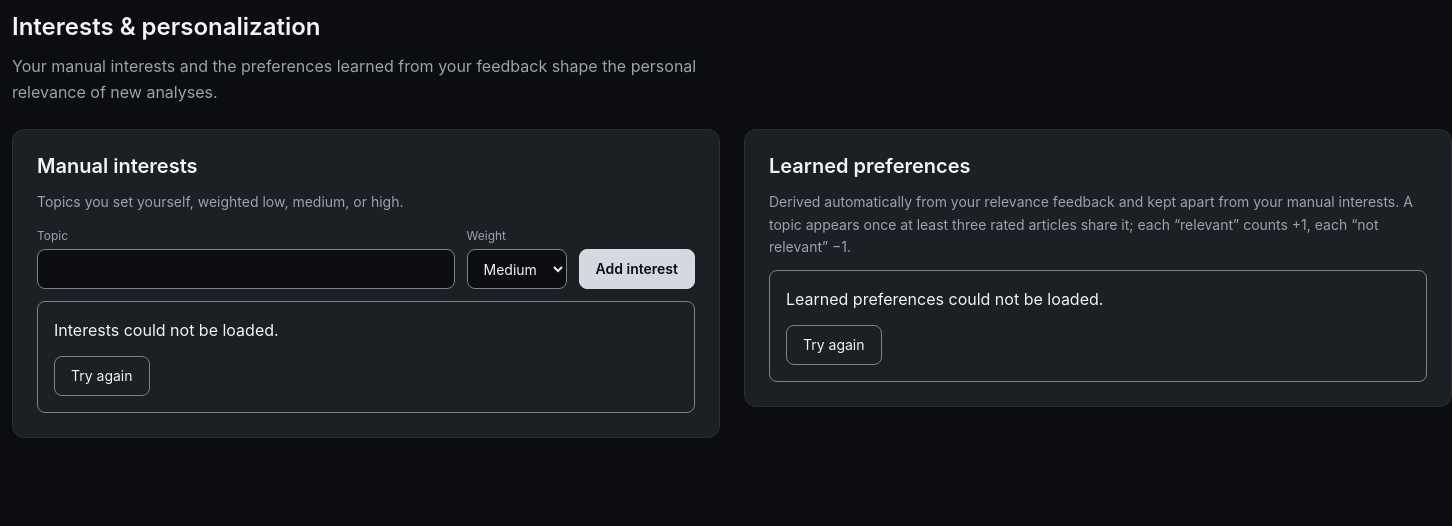
Test: Interests view › shows error states and loads again on retry
Expected: the message "Interests could not be loaded. Try again" is shown, left=37, top=301, right=695, bottom=413
Expected: the message "Learned preferences could not be loaded. Try again" is shown, left=769, top=270, right=1427, bottom=382
Step 1. Click the button "Try again" below "Interests could not be loaded." → (102, 376), box left=54, top=356, right=150, bottom=396
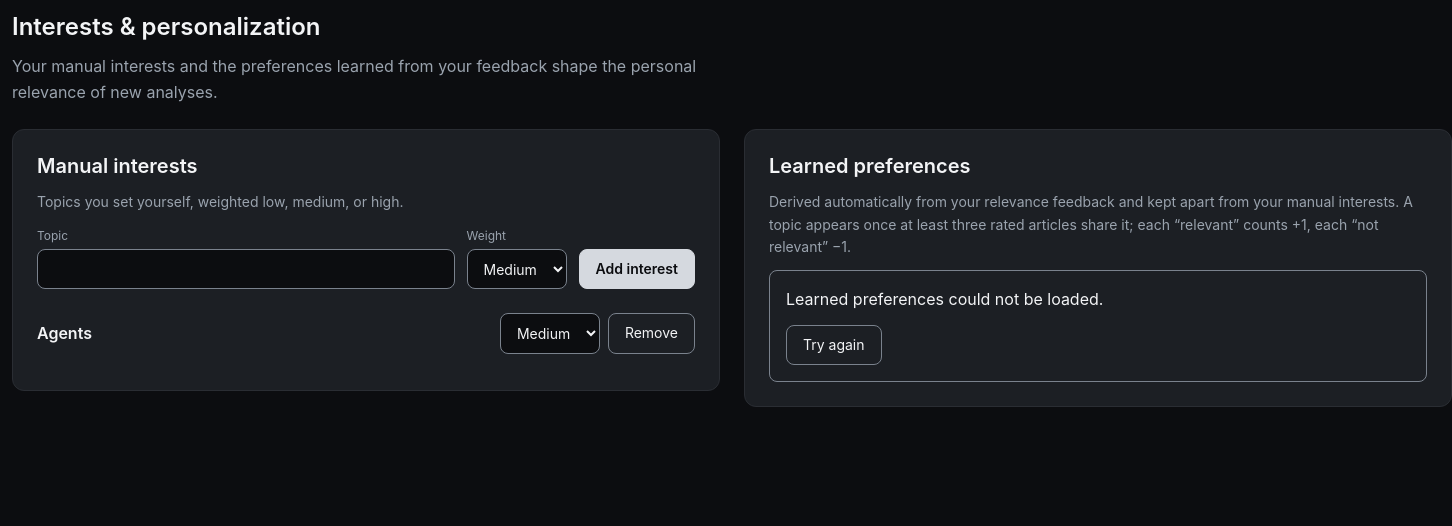
Result: the text "Agents" is shown at left=37, top=322, right=92, bottom=342
Step 2. Click the button "Try again" → (834, 345), box left=786, top=325, right=882, bottom=365
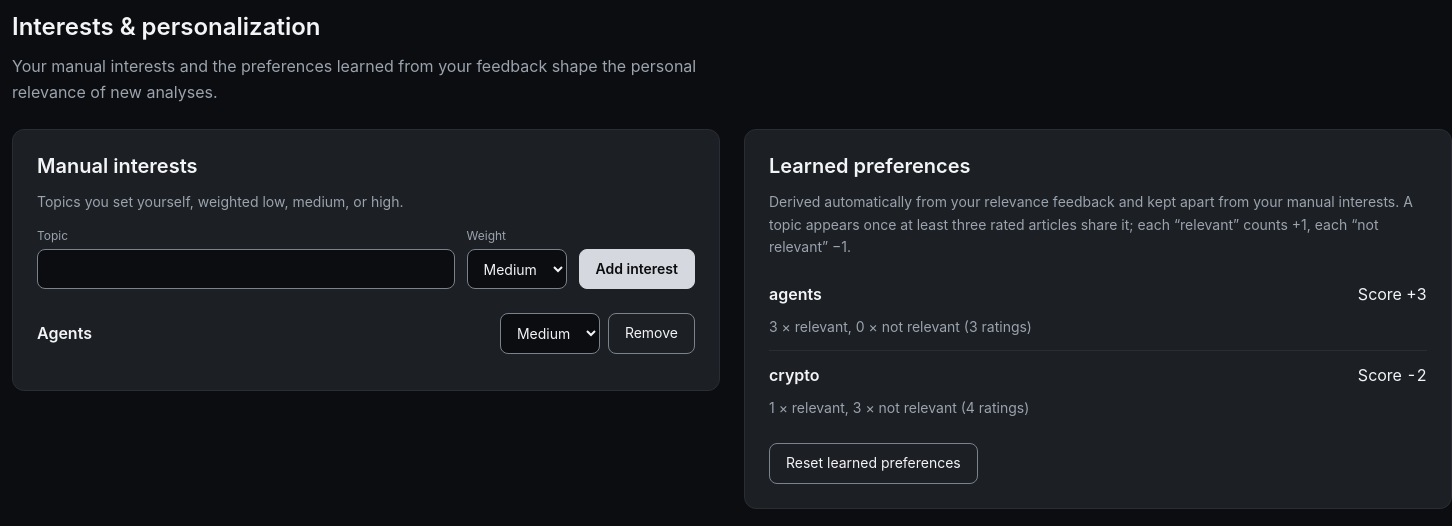
Result: the text "agents" is shown at left=769, top=284, right=822, bottom=304
